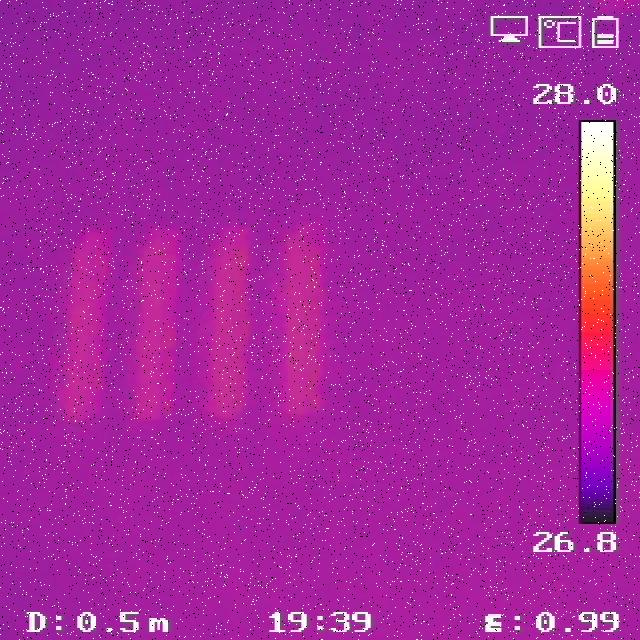Distinguishable 4-bar target: (58, 216, 330, 425)
